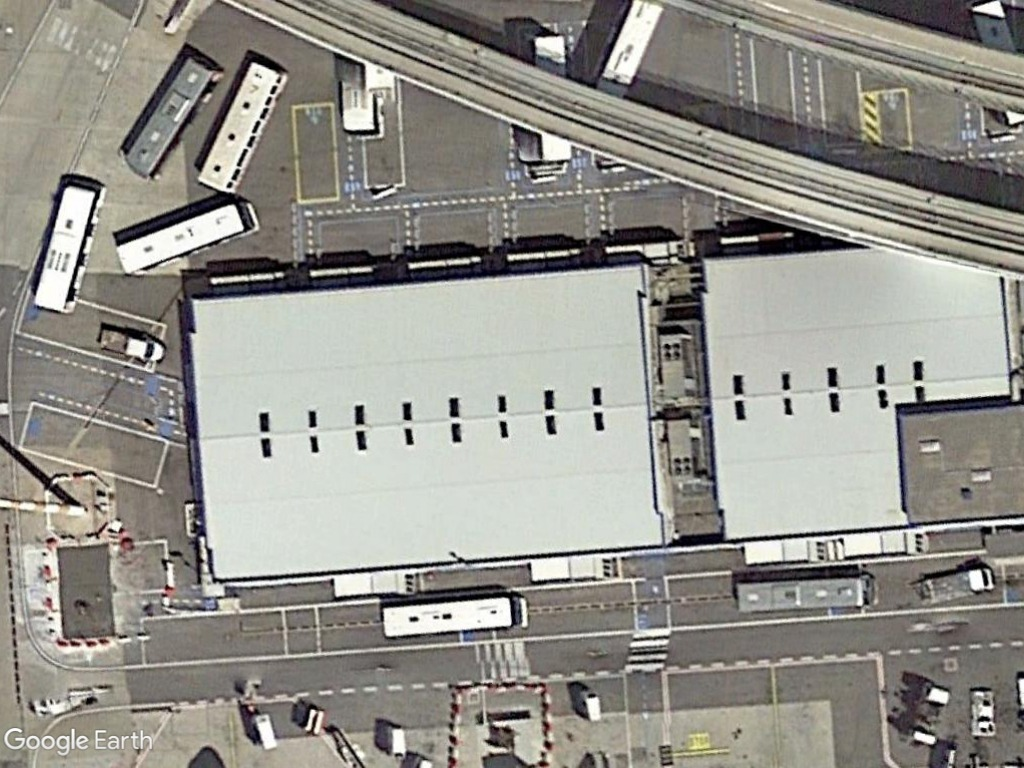bus: (116, 50, 225, 181), (191, 58, 286, 199), (110, 200, 264, 283), (32, 176, 107, 318), (727, 572, 879, 616), (378, 596, 530, 638)
other: (908, 560, 997, 607), (96, 323, 170, 366)
